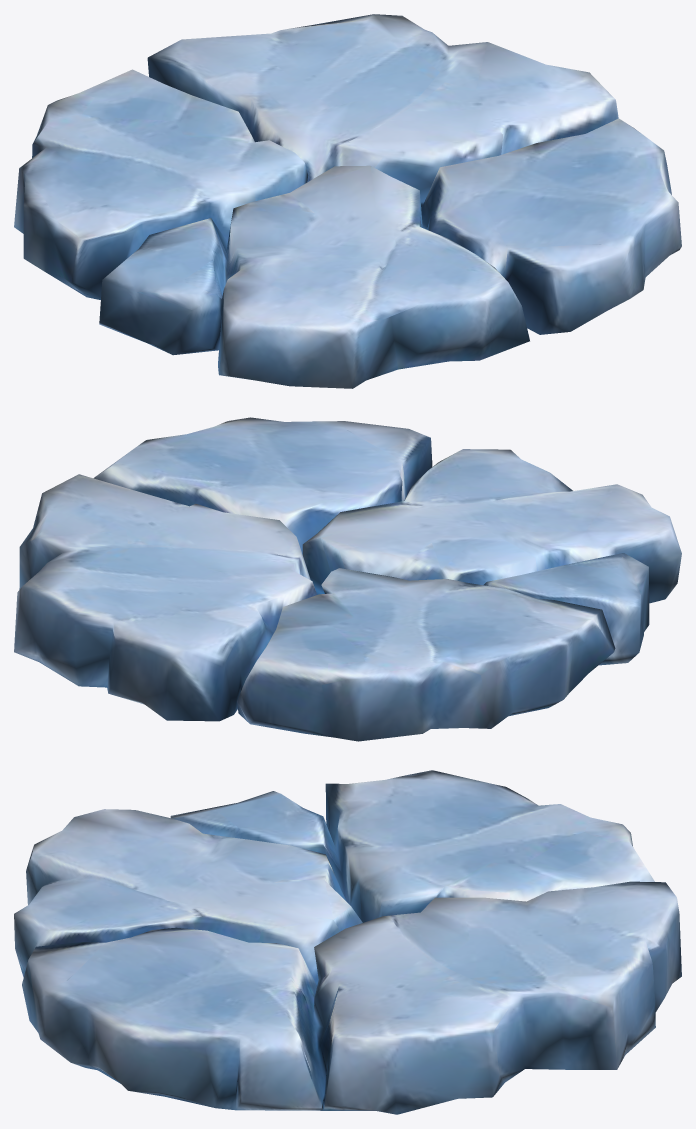
File: hazard_ice.glb
The picture shows the model from 3 angles, top to bottom: view 1: azimuth 30°, elevation 25°; view 2: azimuth 150°, elevation 25°; view 3: azimuth 270°, elevation 25°; orthographic projection. The views are drawn at different scales.
Parts seen in each view (by area): view 1: hazard_ice; view 2: hazard_ice; view 3: hazard_ice.
Part boxes in pixels (x1,y1,x2,y2): hazard_ice: [14, 14, 681, 388]; hazard_ice: [14, 417, 681, 741]; hazard_ice: [14, 770, 681, 1114].
Bounding box in the file's own units: 1.3 × 0.1979 × 1.29.
Materials: 1 (1 with a texture image).
